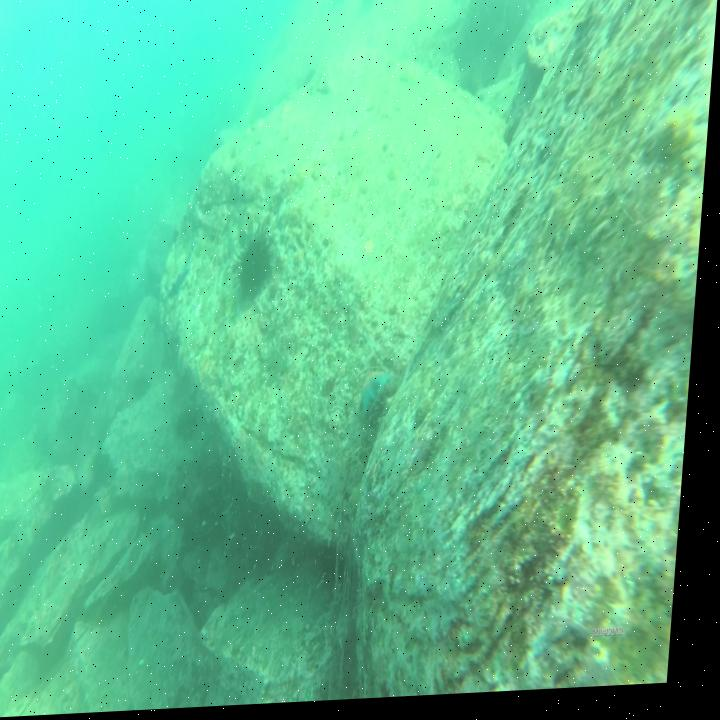echinus: (237, 225, 280, 311), (95, 449, 125, 491), (180, 411, 207, 444)
starfish: (362, 372, 398, 422)
